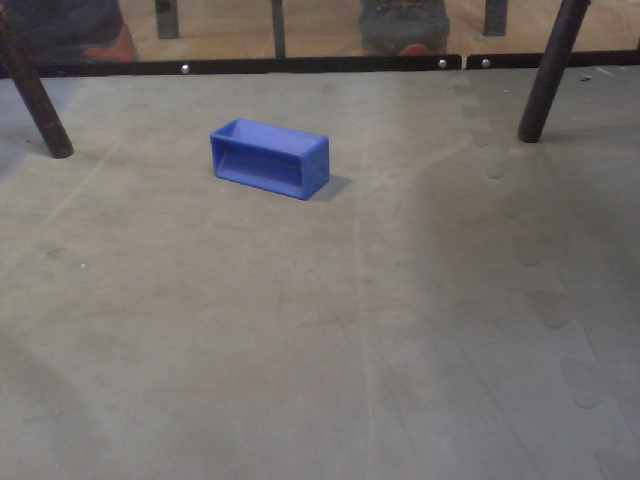BlueSample: (208, 115, 336, 204)
